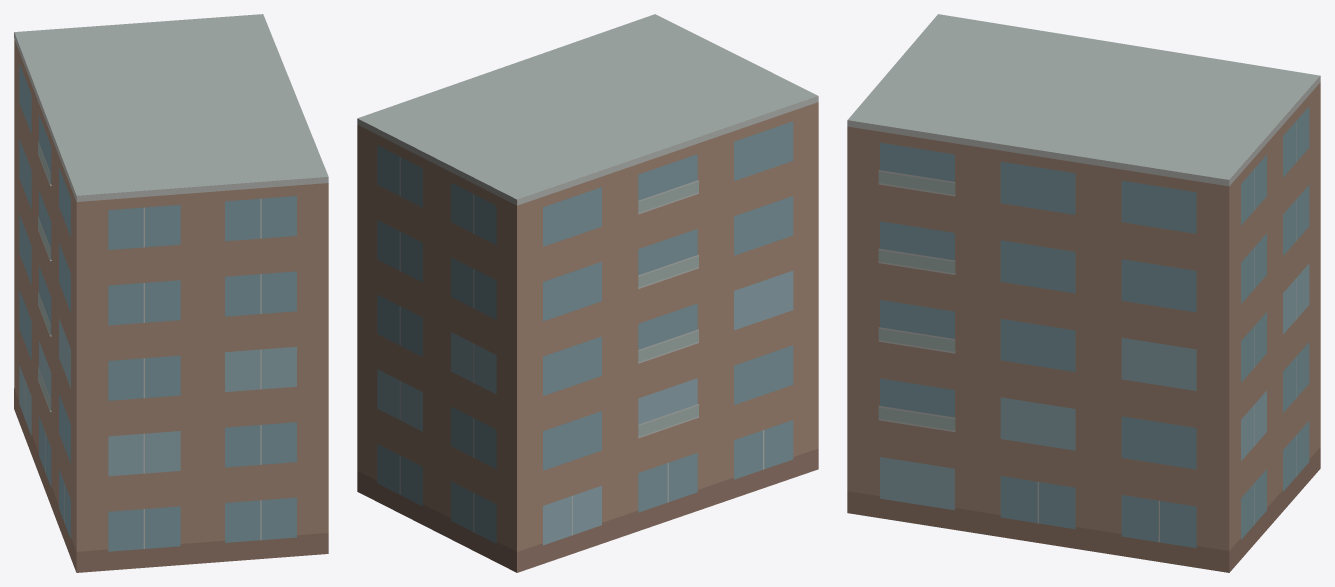
Rendered from survey-upis-32893527.glb.
The picture shows the model from 3 angles, left to right: view 1: azimuth 30°, elevation 25°; view 2: azimuth 150°, elevation 25°; view 3: azimuth 270°, elevation 25°; orthographic projection. The views are drawn at different scales.
Parts seen in each view (by area): view 1: survey-upis-32893527.tmp; view 2: survey-upis-32893527.tmp; view 3: survey-upis-32893527.tmp.
Part boxes in pixels (box(x1,y1,x2,y2)): survey-upis-32893527.tmp: box(14, 14, 328, 572); survey-upis-32893527.tmp: box(357, 14, 818, 572); survey-upis-32893527.tmp: box(847, 14, 1320, 572).
Size of the model in its own units: 13.6 by 15 by 16.38.
